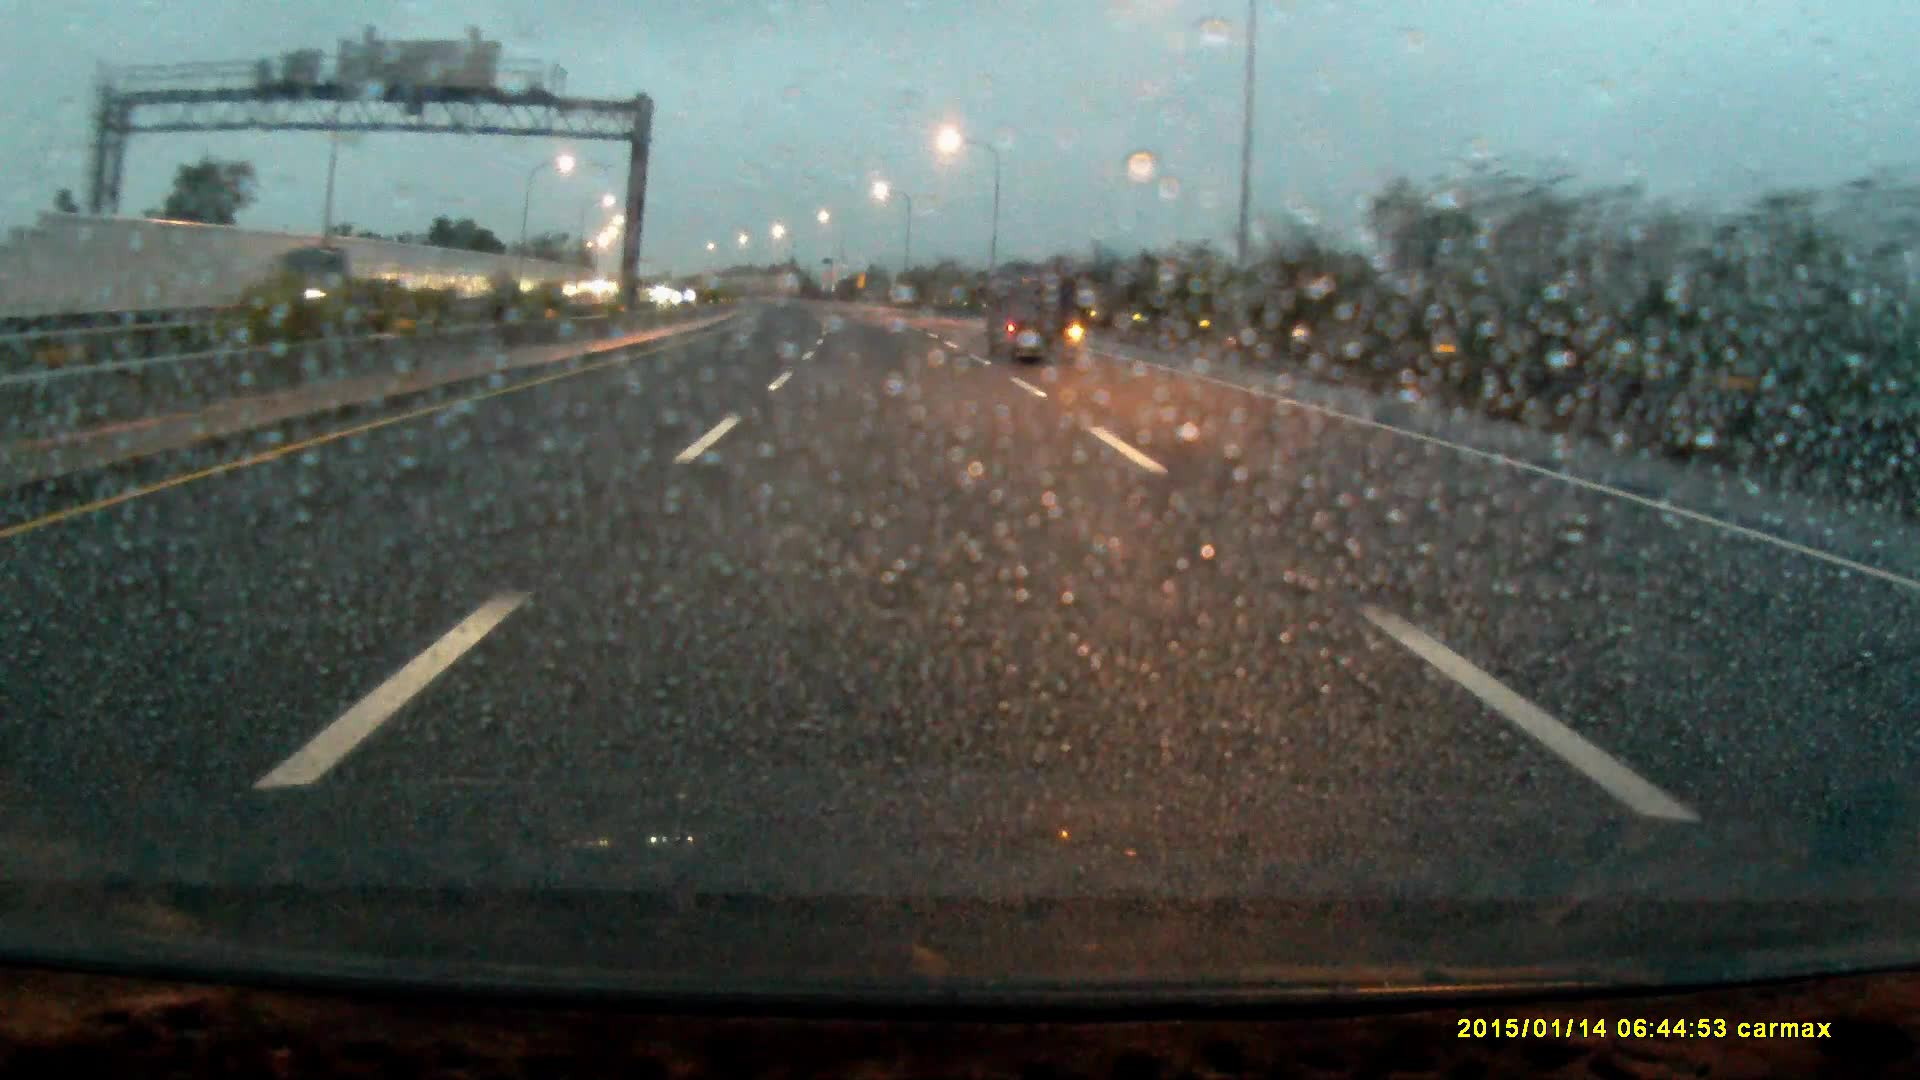vehicle: (266, 243, 402, 322), (994, 273, 1081, 367)
